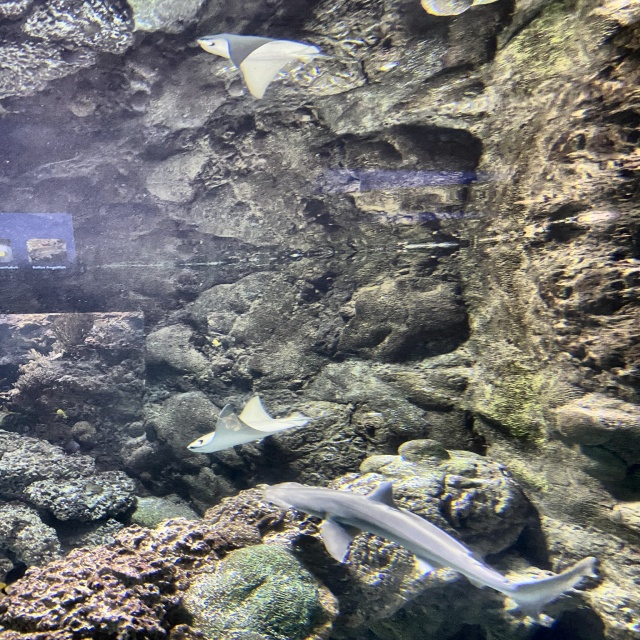shark: (264, 481, 594, 613)
stingray: (197, 32, 319, 98), (187, 396, 308, 460)
